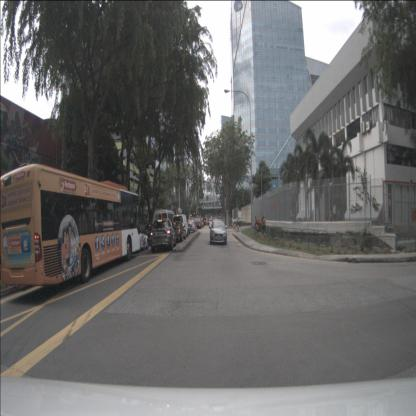human-pedestrian-adult: (262, 216, 266, 236), (254, 216, 258, 229), (260, 217, 264, 230), (257, 217, 261, 229), (254, 222, 258, 233)
vehicle-bus-rigid: (0, 163, 140, 286)
vehicle-car: (150, 219, 176, 252), (152, 209, 175, 240), (130, 225, 149, 250), (210, 221, 227, 245), (172, 215, 188, 238), (170, 222, 186, 242), (144, 225, 158, 245), (188, 219, 197, 232), (234, 217, 246, 226), (194, 218, 202, 229), (198, 218, 204, 228), (200, 217, 206, 226), (204, 219, 210, 225)
